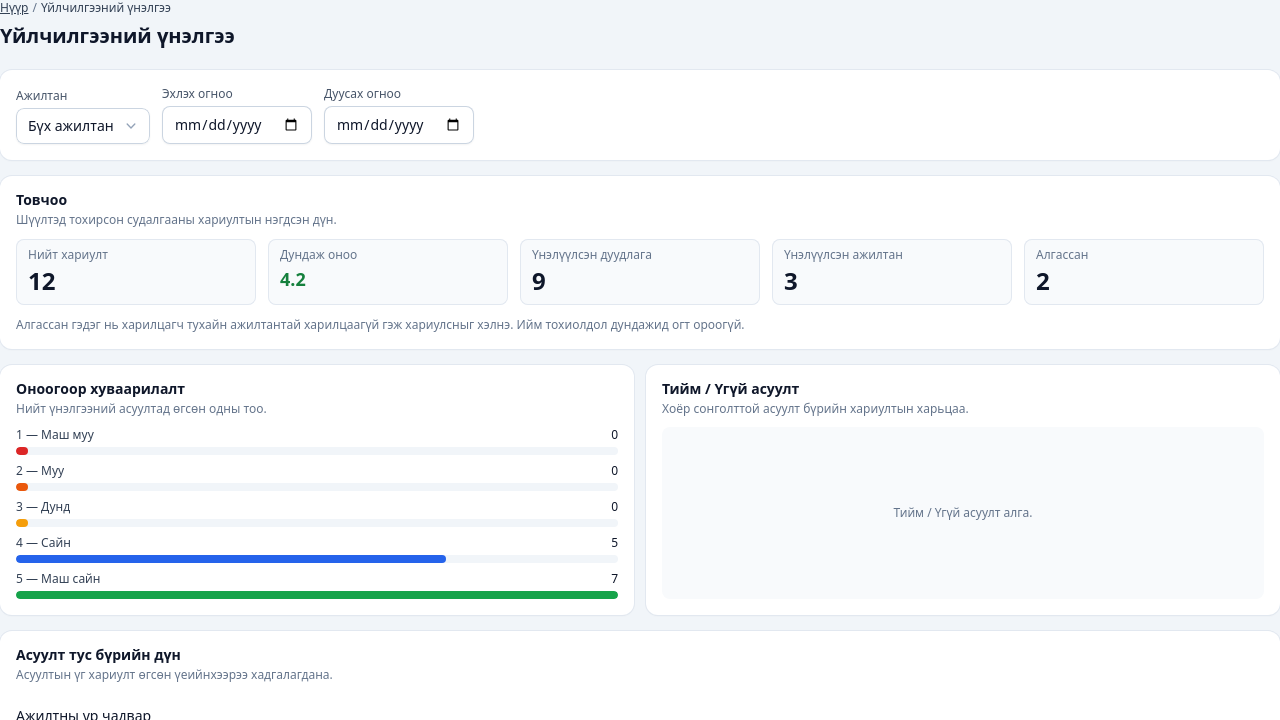
Scenario: SurveyResultsPage › re-queries and writes the employee filter to the url
Expected: the text "Нийт хариулт" is shown, [28,246,108,262]
Select "Дорж Бат" in the dropdown labelled "Ажилтан" at (83, 126), box [16,108,150,144]
(page scrolled)
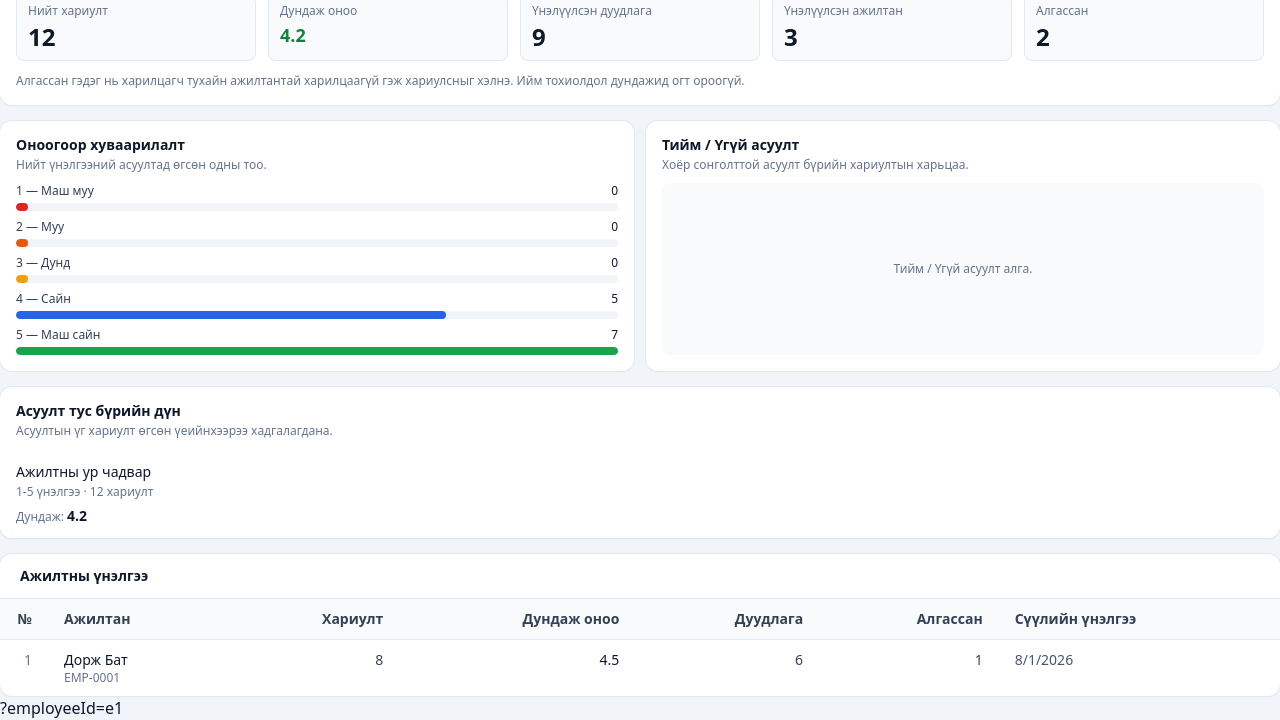
Result: the text with test id "search" shows "employeeId=e1" at [0,696,123,718]
